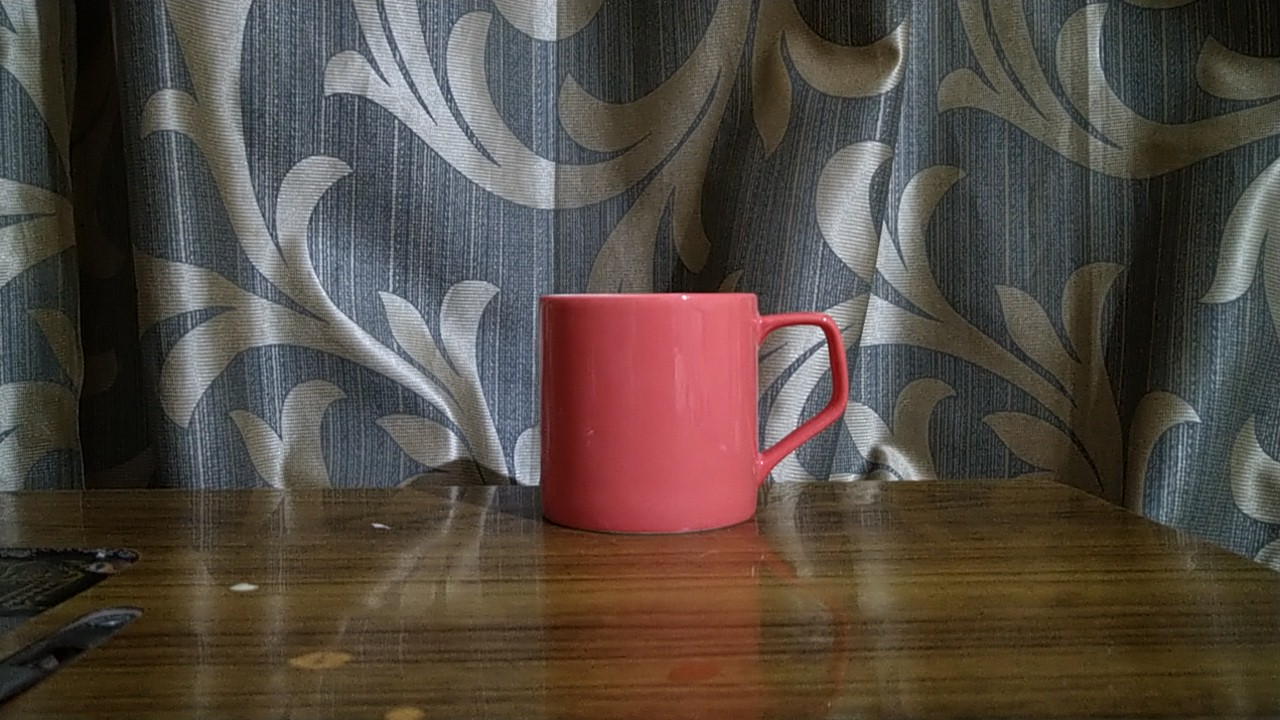cup: (530, 285, 854, 544)
